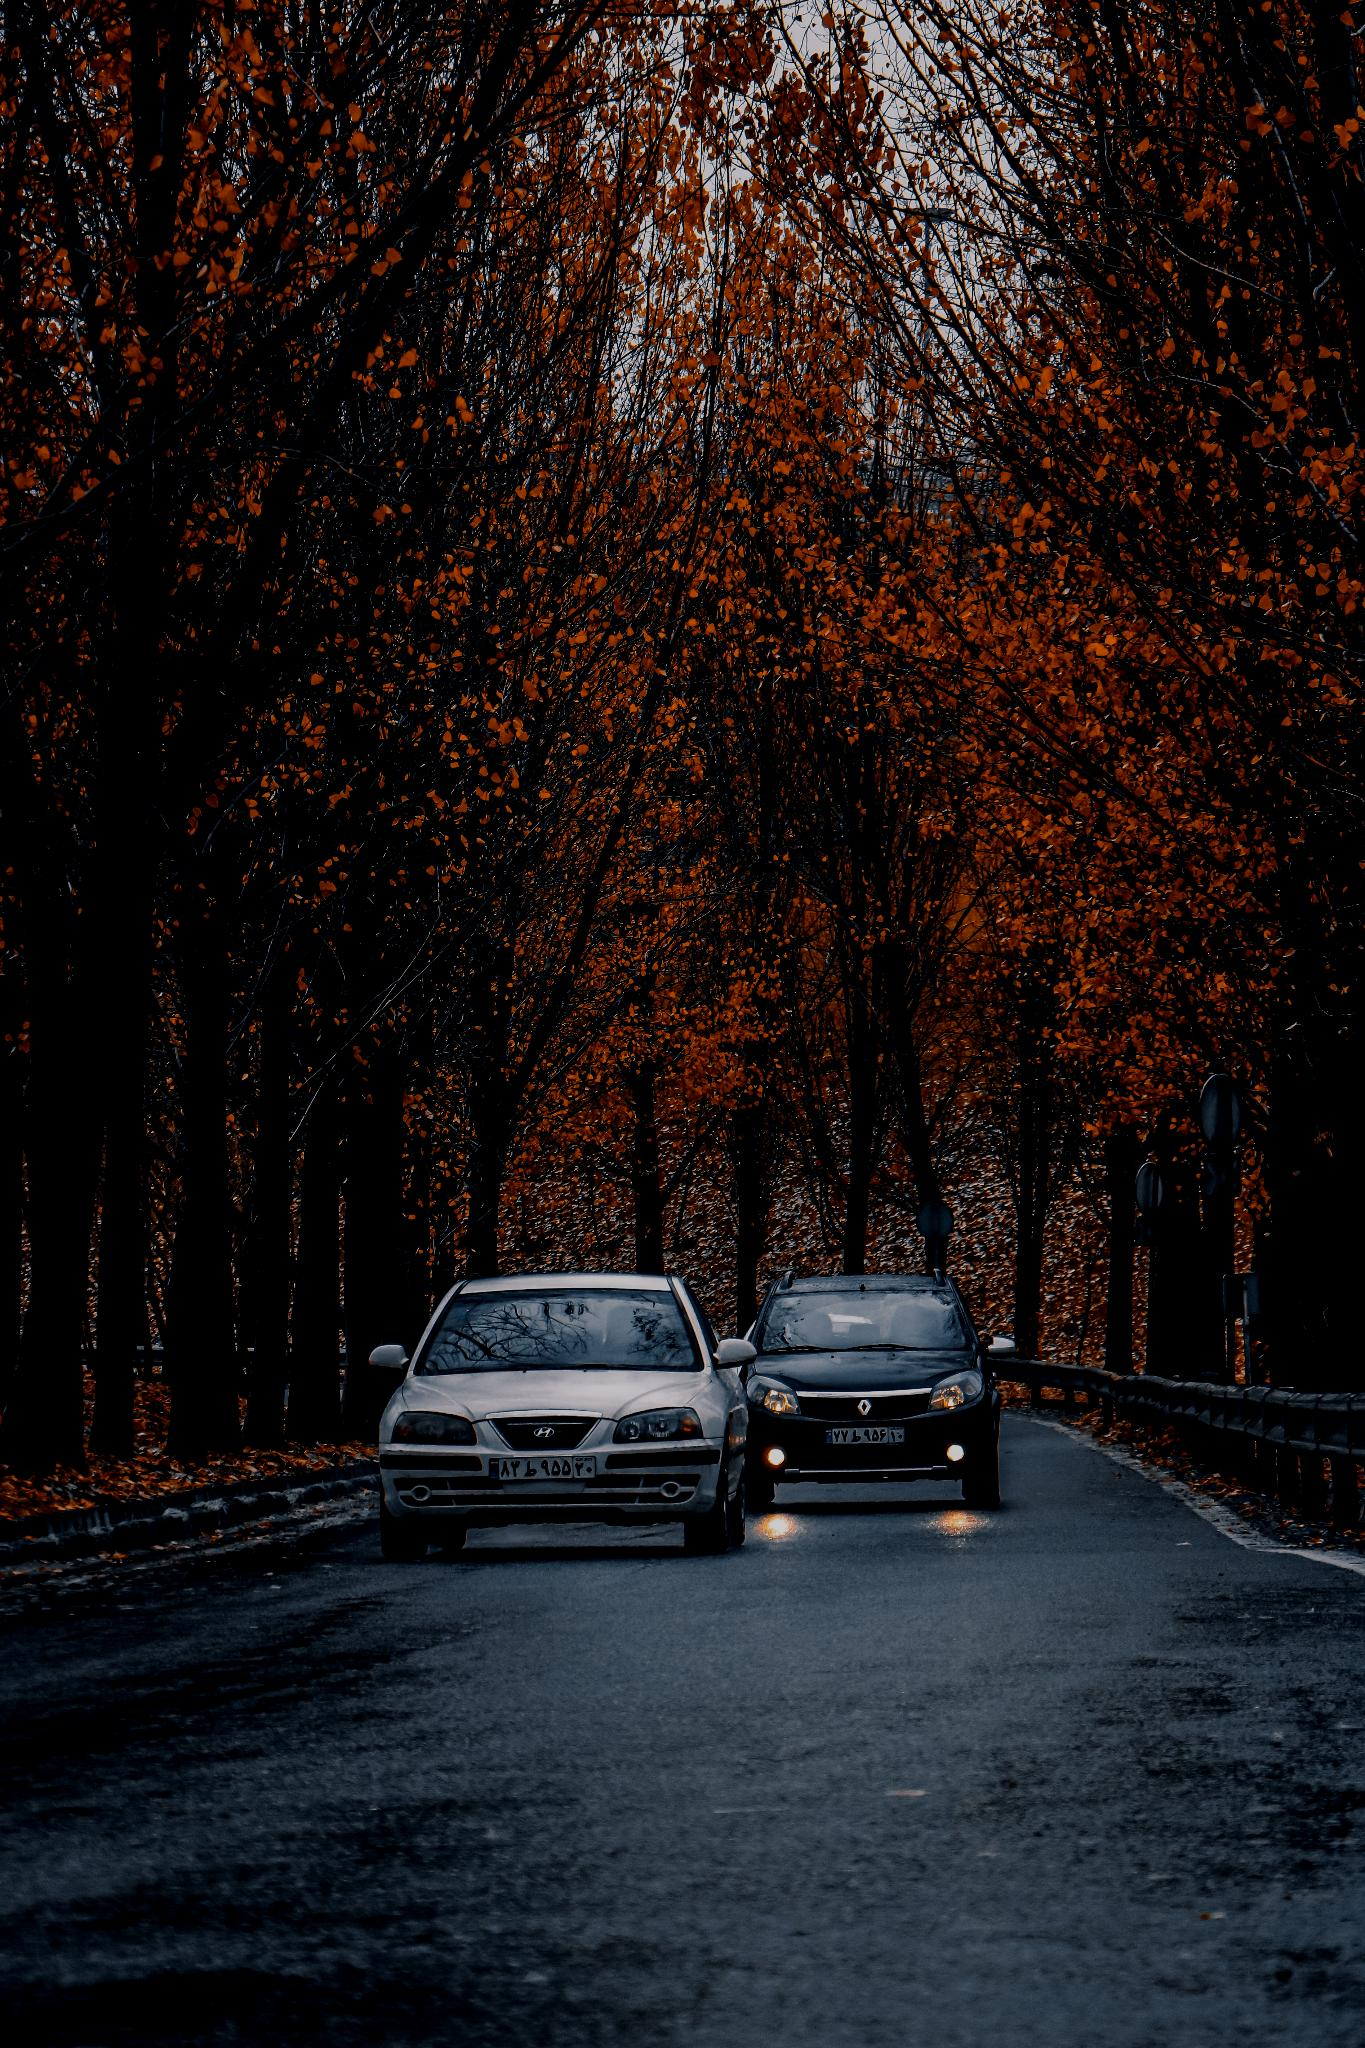Hyundai: (529, 1419, 561, 1445)
Renault: (847, 1395, 879, 1422)
